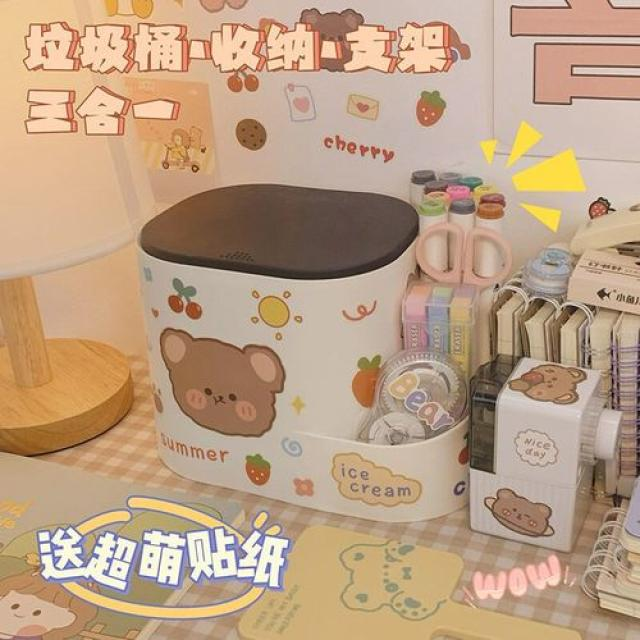dustbin: (136, 178, 429, 514)
